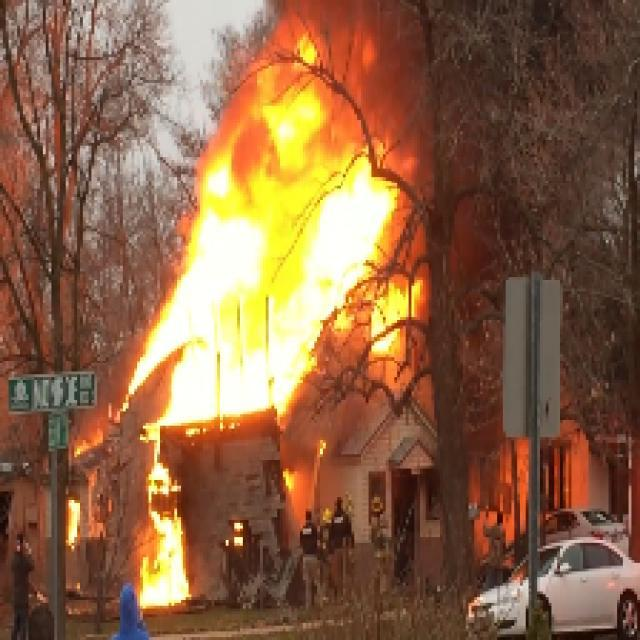Fire: (148, 61, 414, 453)
